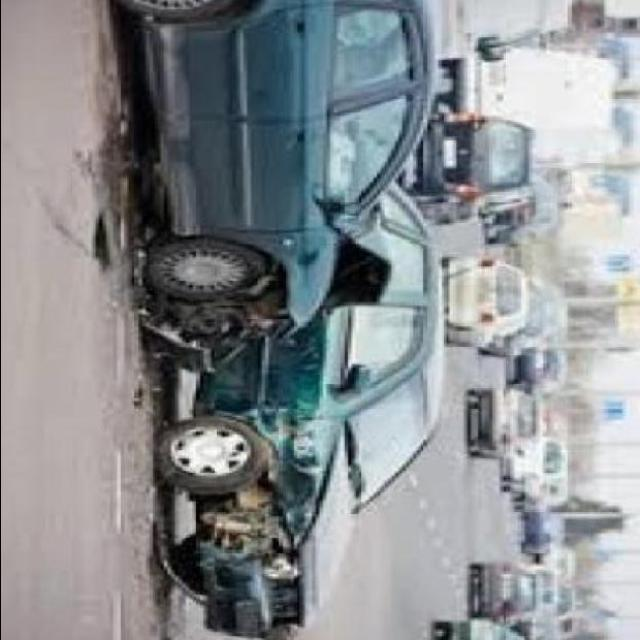accident: (157, 96, 455, 640)
